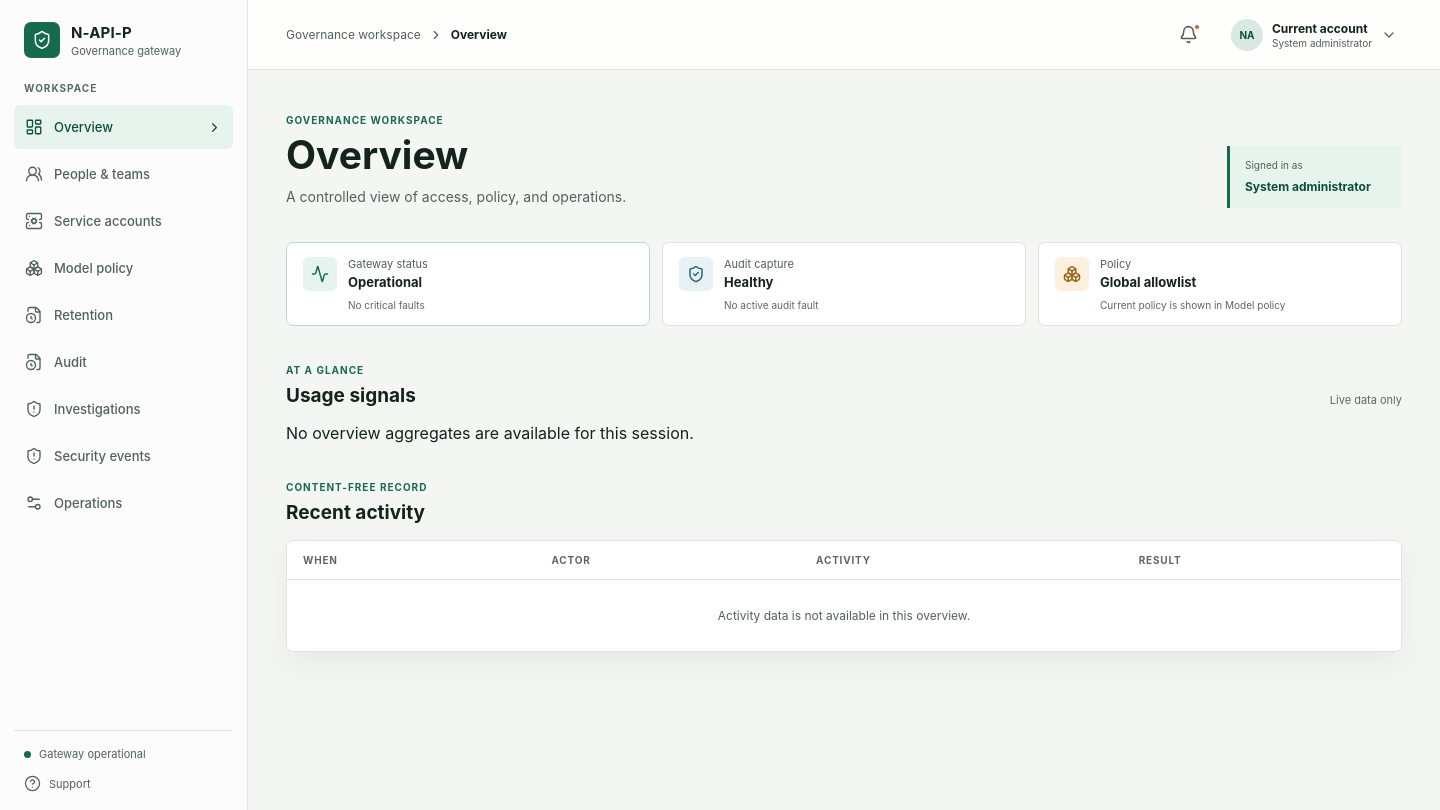
Scenario: audit workspace › keeps reauthentication open when the password is rejected without expiring the session
The image size is (1440, 810).
Click the link "Audit" at (56, 362), box [25,353,87,371]
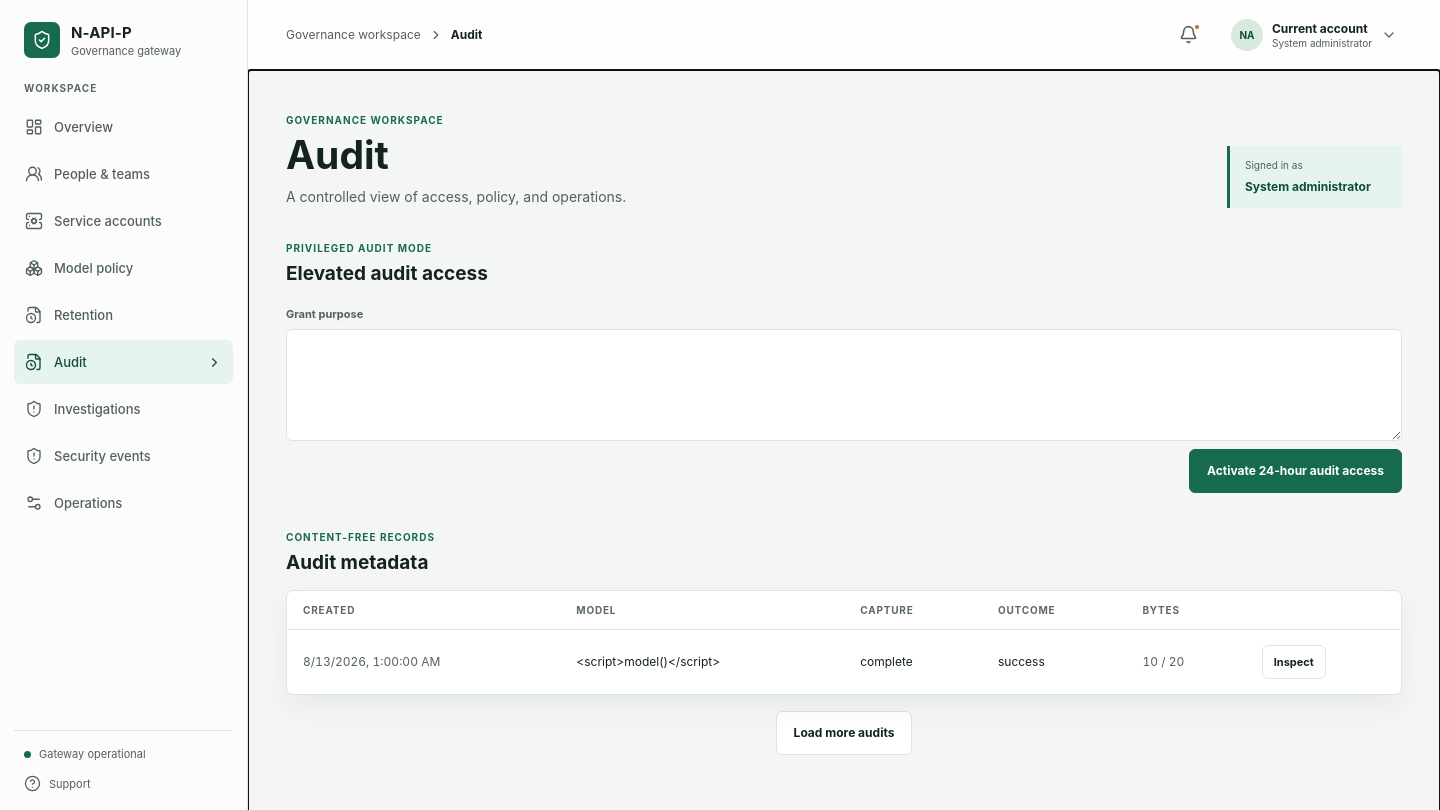
Click the button with aria-label "Inspect raw content" at (1294, 662), box [1262,645,1326,679]
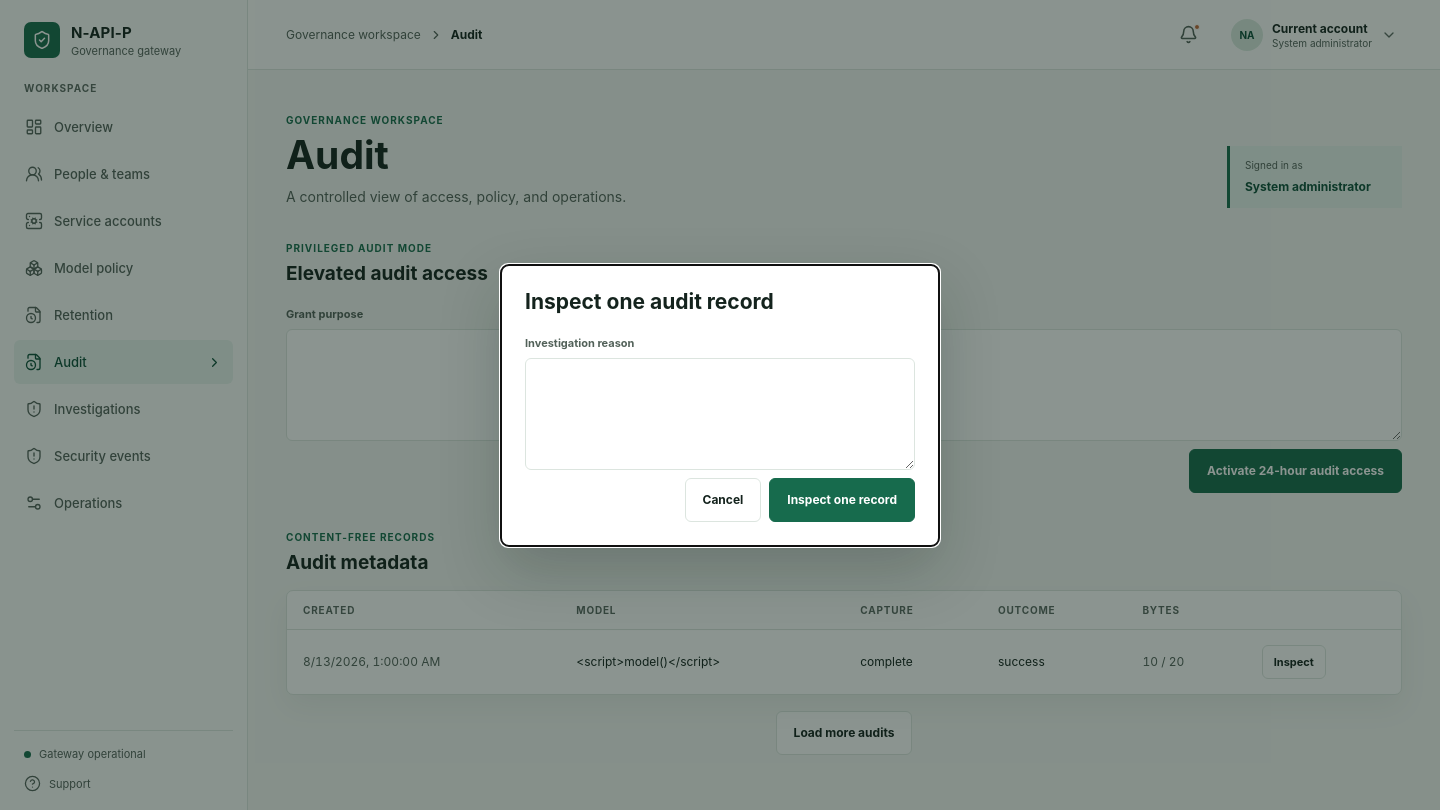
Type "Synthetic verification" into the text box labelled "Investigation reason" at (720, 414), box [525,358,915,470]
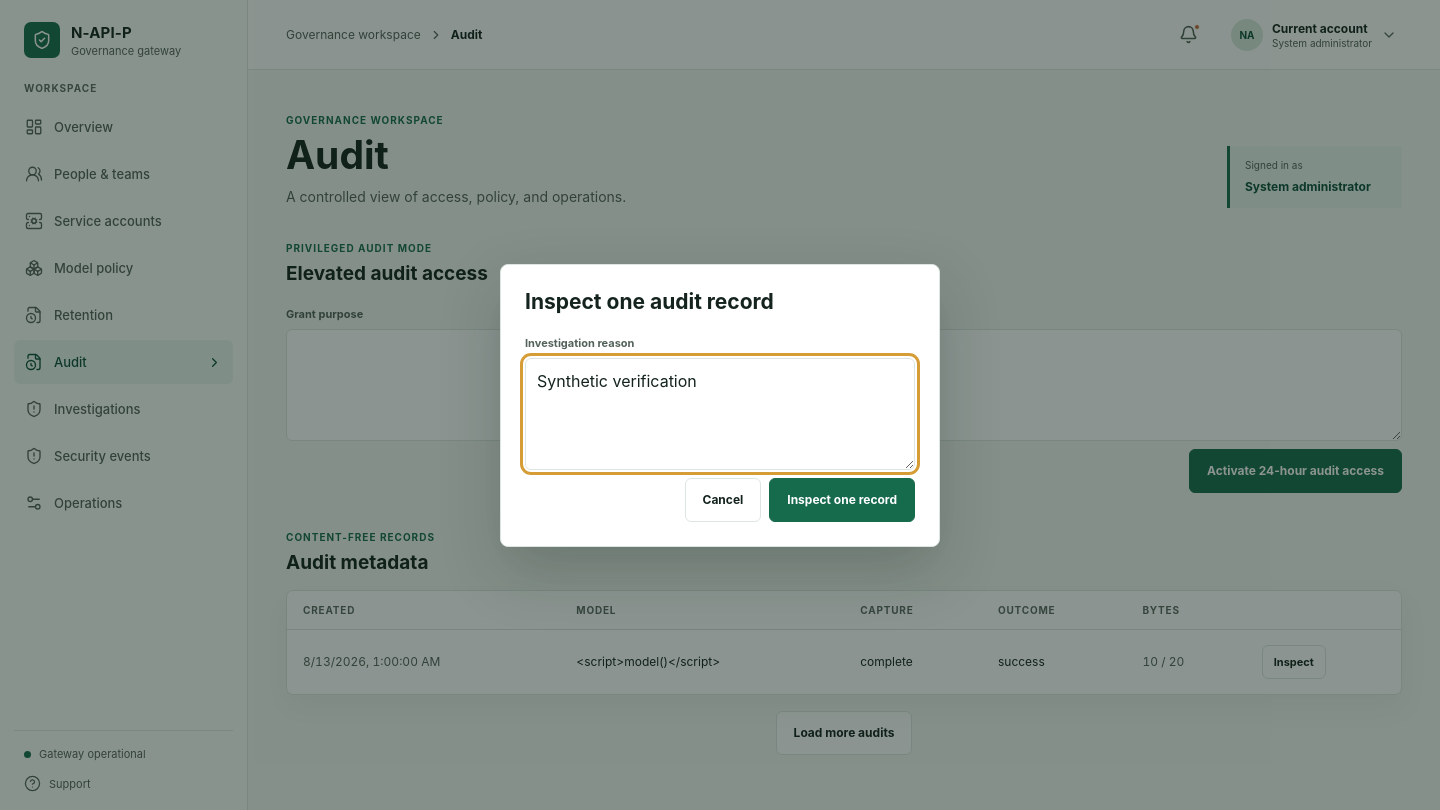
Click the button "Inspect one record" at (842, 500), box [769,478,915,522]
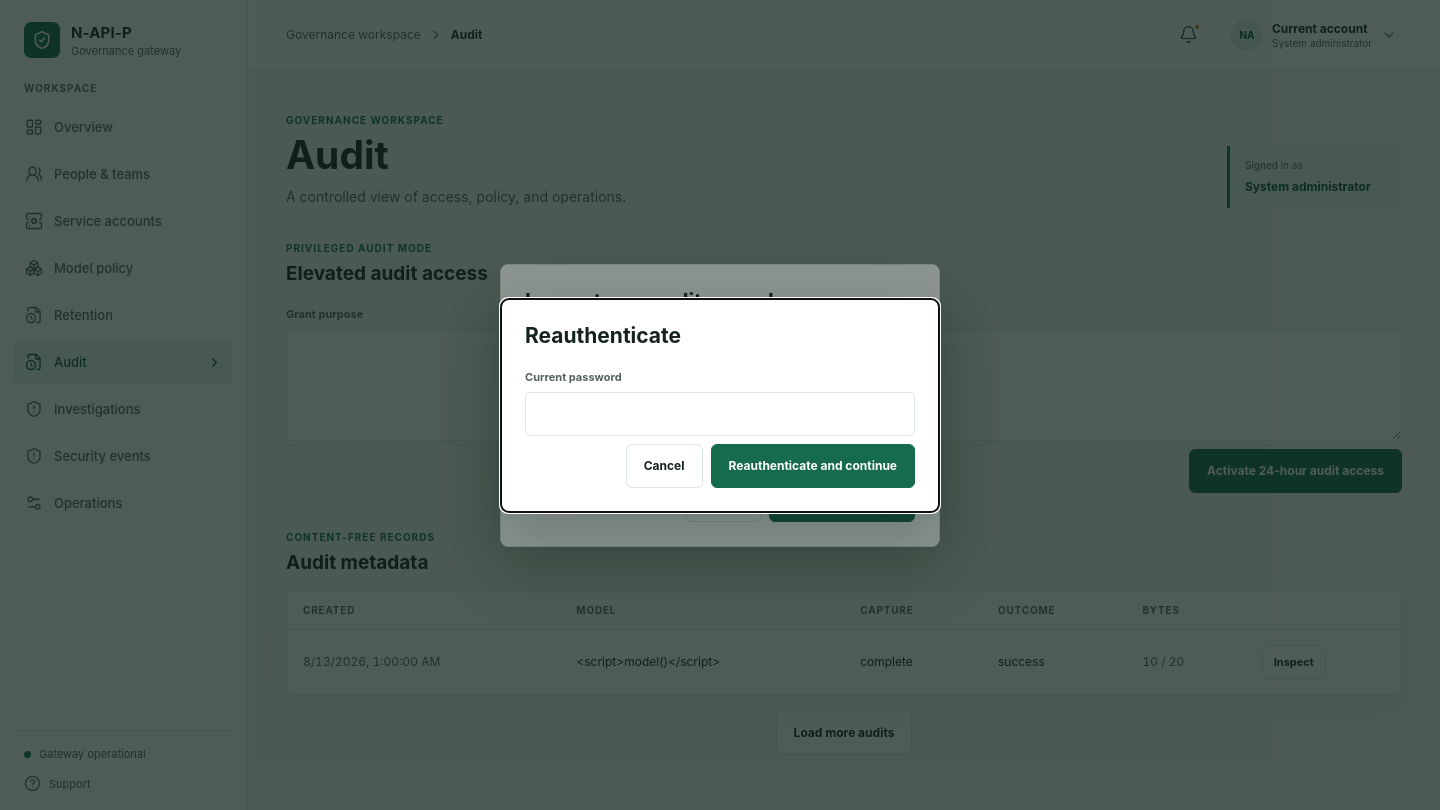
Type "synthetic-wrong-password" into the password field labelled "Current password" at (720, 414), box [525,392,915,436]
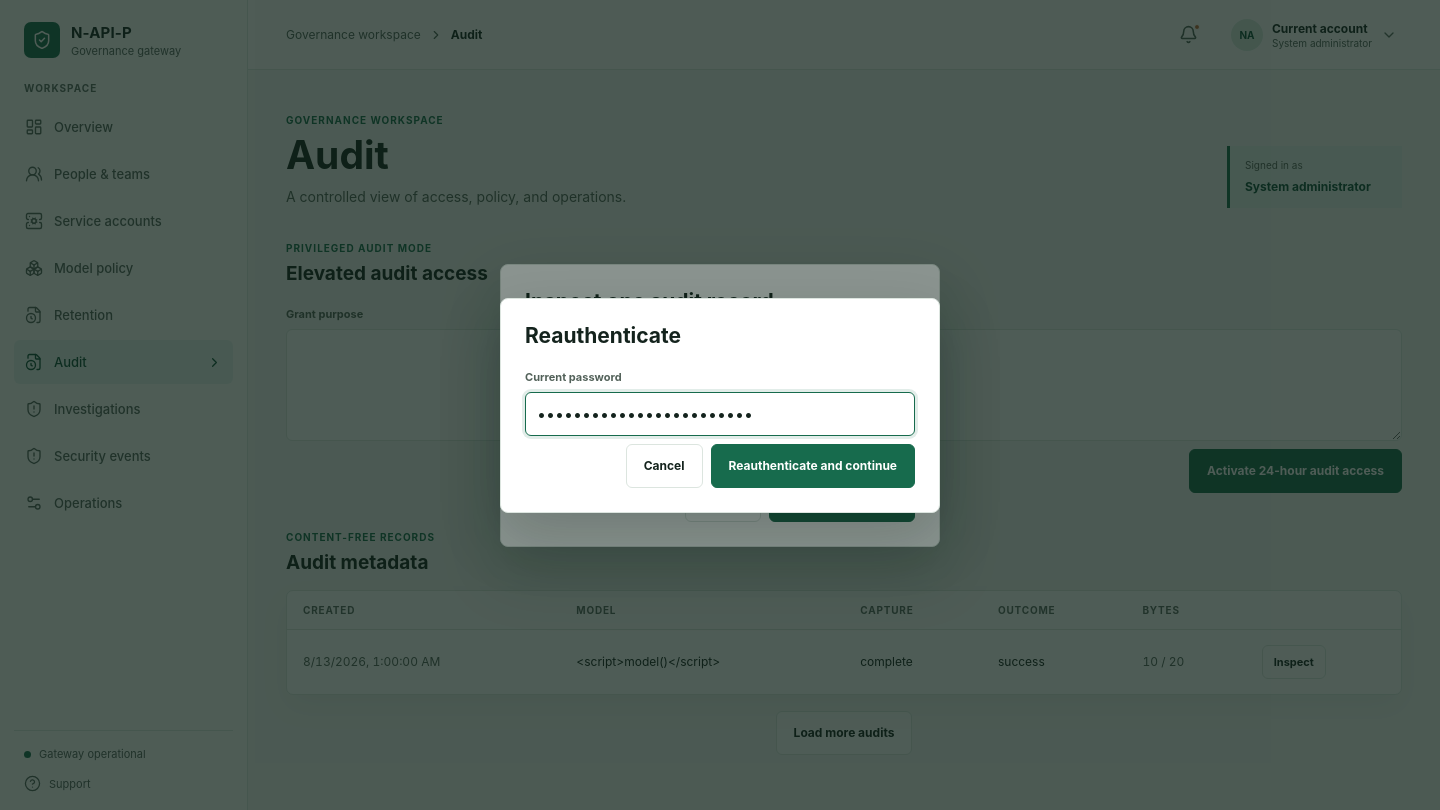
Click the button "Reauthenticate and continue" at (813, 466), box [710,444,915,488]
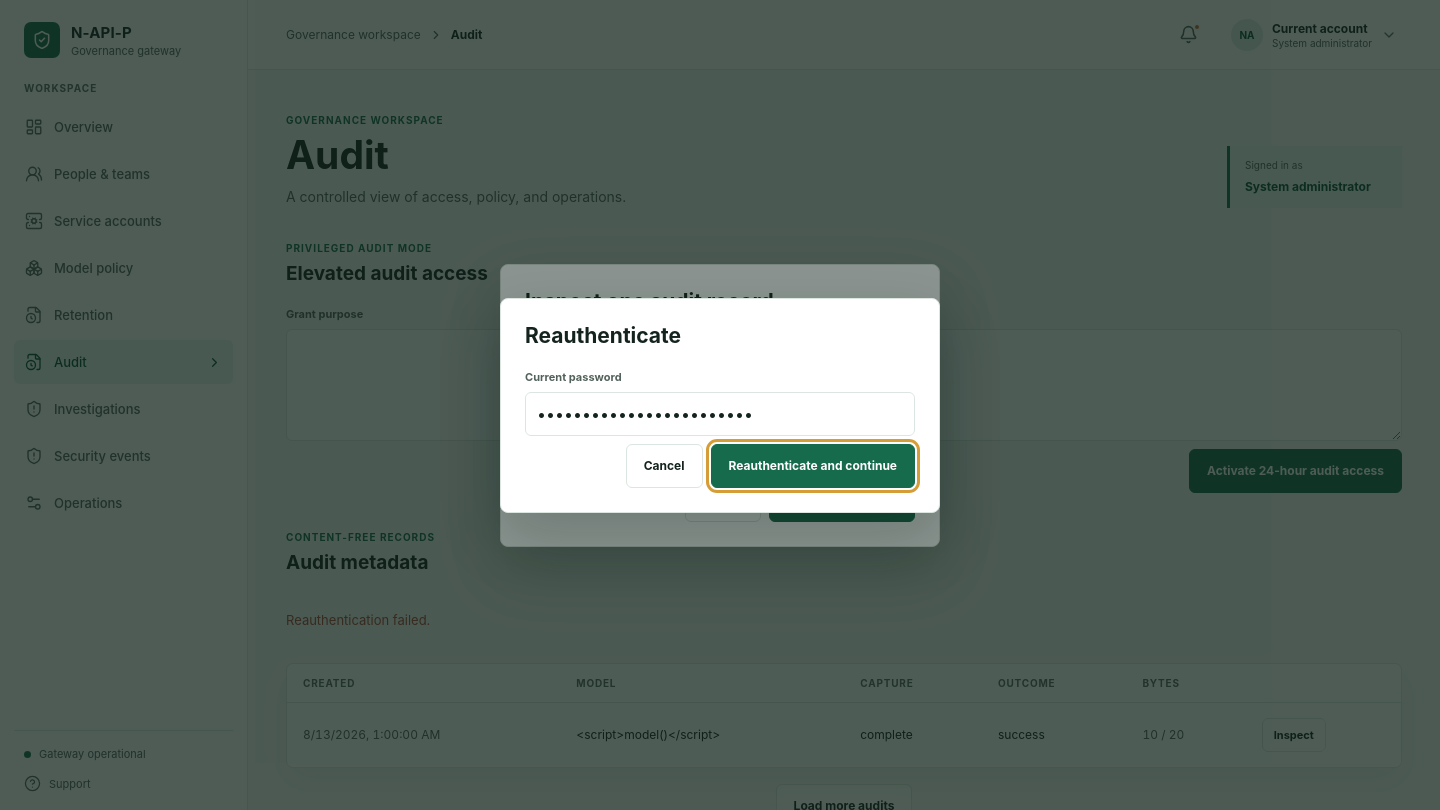
Result: the dialog "Reauthenticate" is shown at [500,298,940,512]
Result: the text "Reauthentication failed." is shown at [286,612,430,628]
